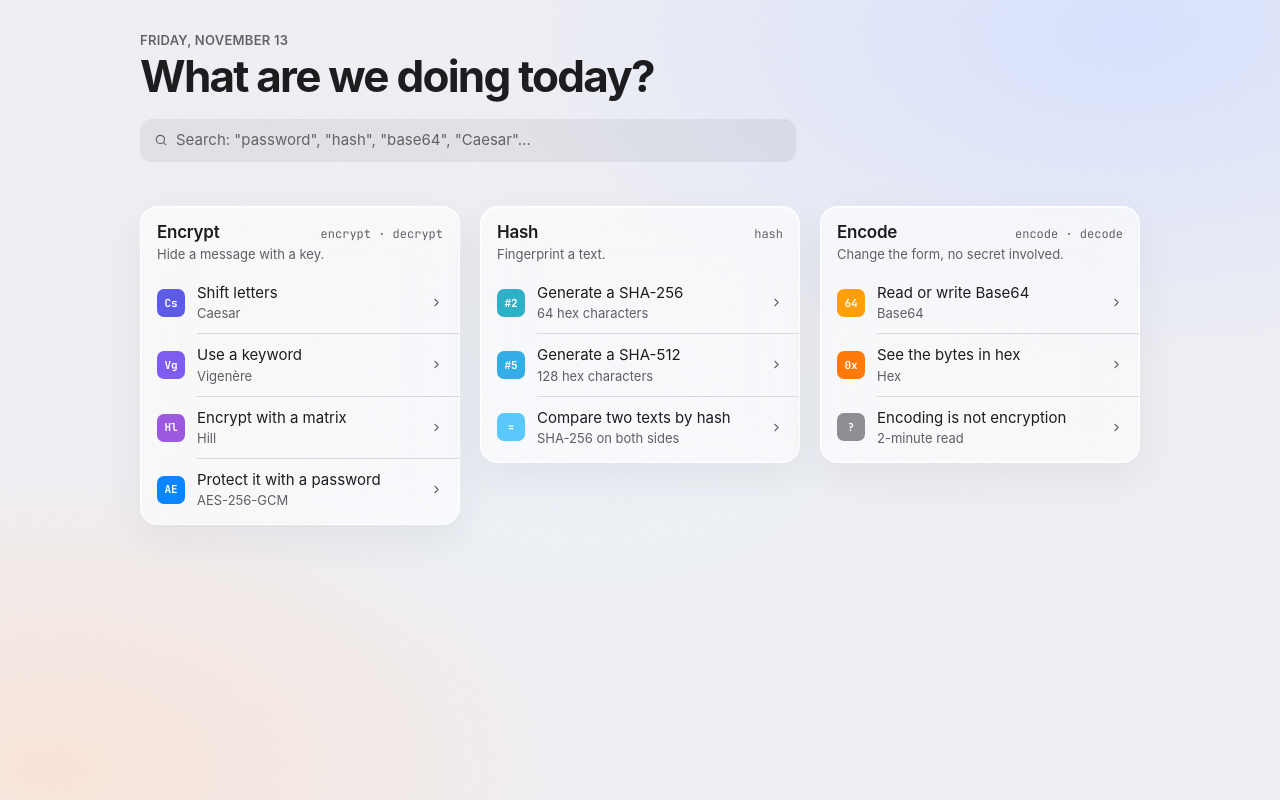
Test: Home › no match lists available algorithms
The image size is (1280, 800).
Expected: the link "Cs Shift letters Caesar" is shown, [141,272,459,334]
Type "zzz" into the search field labelled "Search: \"password\", \"hash\", \"base64\", \"Caesar\"…" at (479, 140), box [176,129,782,152]
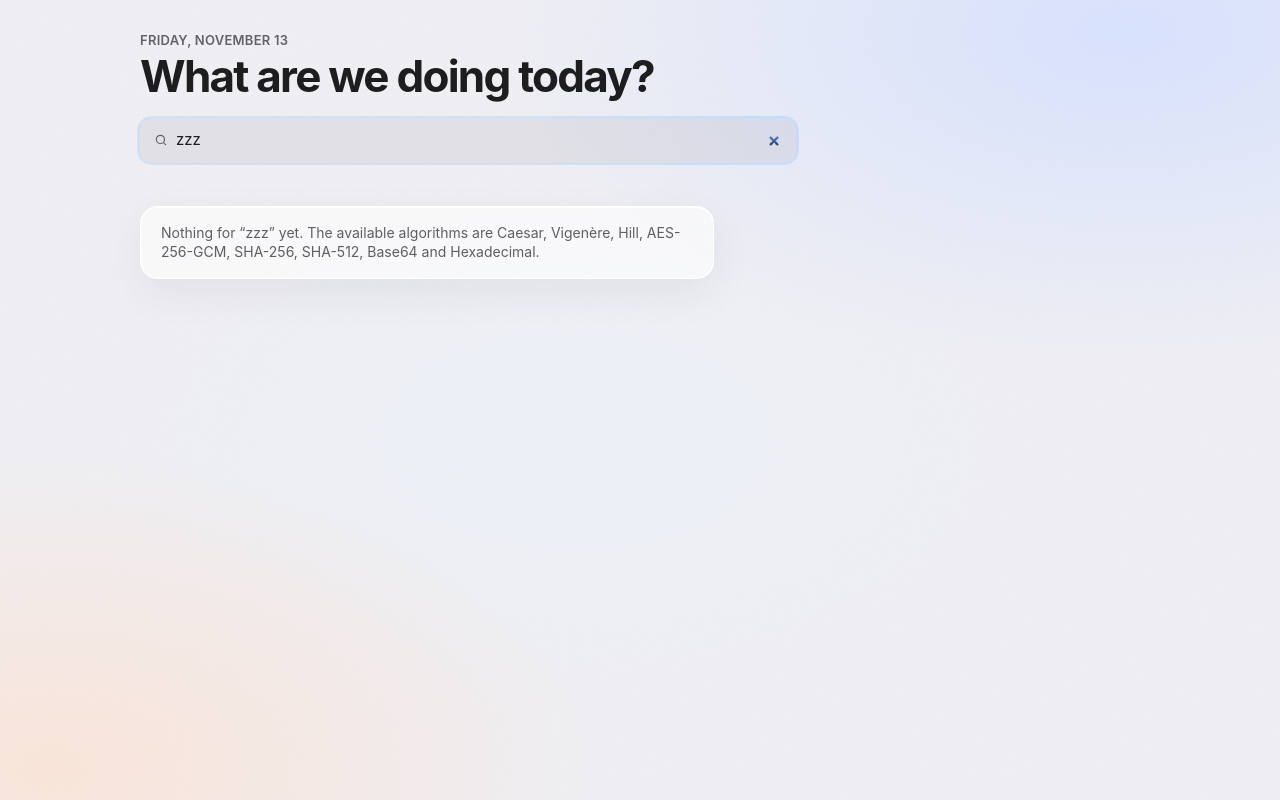
Expected: the text "Nothing for “zzz” yet. The available algorithms are Caesar, Vigenère, Hill, AES-256-GCM, SHA-256, SHA-512, Base64 and He" is shown, [161,224,680,260]
Expected: the heading "Encrypt" is gone
